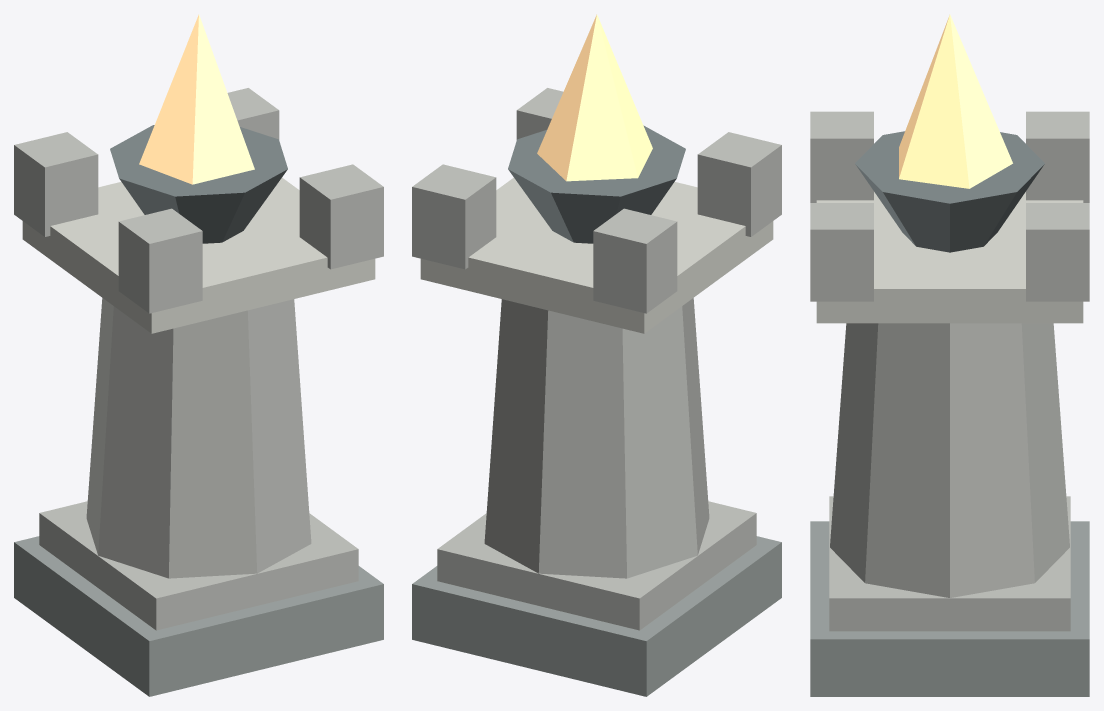
The model's file is human_fire_t1.glb.
3 renders of one model, left to right at view 1: azimuth 30°, elevation 25°; view 2: azimuth 150°, elevation 25°; view 3: azimuth 270°, elevation 25°, orthographic. The views are drawn at different scales.
Parts seen in each view (by area): view 1: human_fire_t1_MAT_stone, human_fire_t1_MAT_dark, human_fire_t1_MAT_light, human_fire_t1_MAT_fire, human_fire_t1_MAT_iron; view 2: human_fire_t1_MAT_stone, human_fire_t1_MAT_dark, human_fire_t1_MAT_light, human_fire_t1_MAT_fire, human_fire_t1_MAT_iron; view 3: human_fire_t1_MAT_stone, human_fire_t1_MAT_dark, human_fire_t1_MAT_light, human_fire_t1_MAT_fire, human_fire_t1_MAT_iron.
Part boxes in pixels (<box>): human_fire_t1_MAT_stone: <box>14,88,383,630</box>; human_fire_t1_MAT_dark: <box>14,536,383,696</box>; human_fire_t1_MAT_light: <box>22,177,375,333</box>; human_fire_t1_MAT_fire: <box>139,14,254,184</box>; human_fire_t1_MAT_iron: <box>110,125,287,243</box>; human_fire_t1_MAT_stone: <box>412,88,781,630</box>; human_fire_t1_MAT_dark: <box>412,536,781,696</box>; human_fire_t1_MAT_light: <box>420,177,773,333</box>; human_fire_t1_MAT_fire: <box>537,14,652,181</box>; human_fire_t1_MAT_iron: <box>508,125,685,243</box>; human_fire_t1_MAT_stone: <box>810,111,1089,631</box>; human_fire_t1_MAT_dark: <box>810,521,1089,696</box>; human_fire_t1_MAT_light: <box>816,192,1083,323</box>; human_fire_t1_MAT_fire: <box>899,14,1012,188</box>; human_fire_t1_MAT_iron: <box>855,131,1044,252</box>.
Size of the model in its own units: 0.88 by 2.17 by 0.88.
